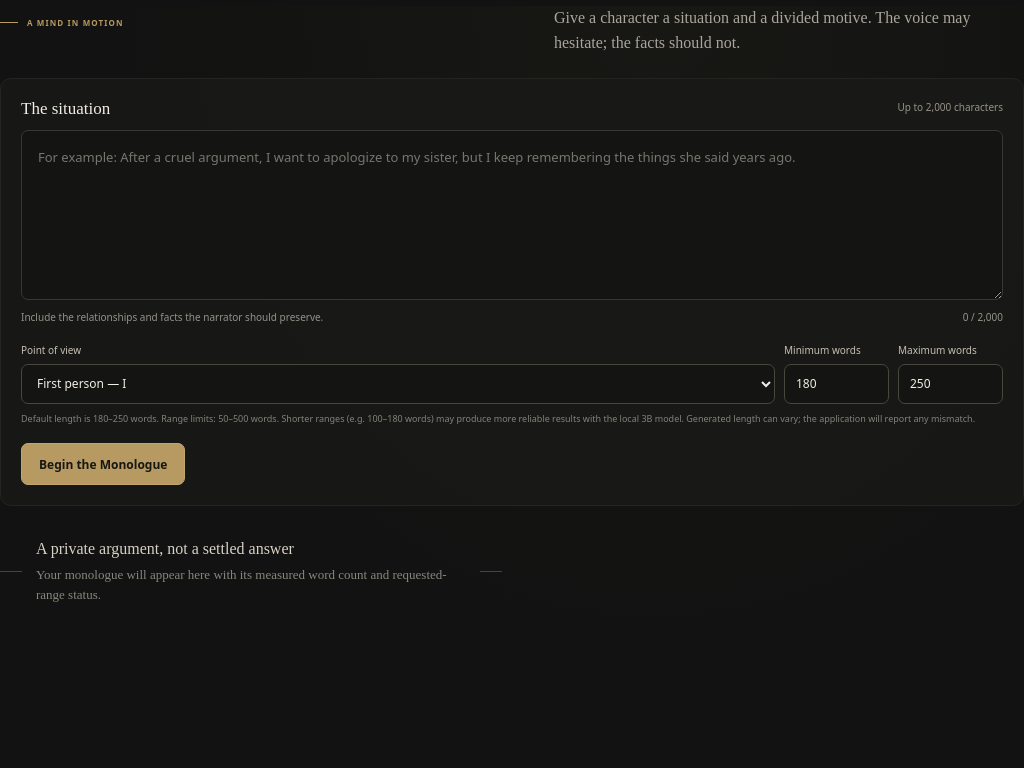
Test: InnerMonologue component › copies generated monologue to clipboard
The width and height of the screenshot is (1024, 768).
Type "Doubt" into the text box labelled "The situation Up to 2,000 characters" at (512, 215), box [21,130,1003,300]
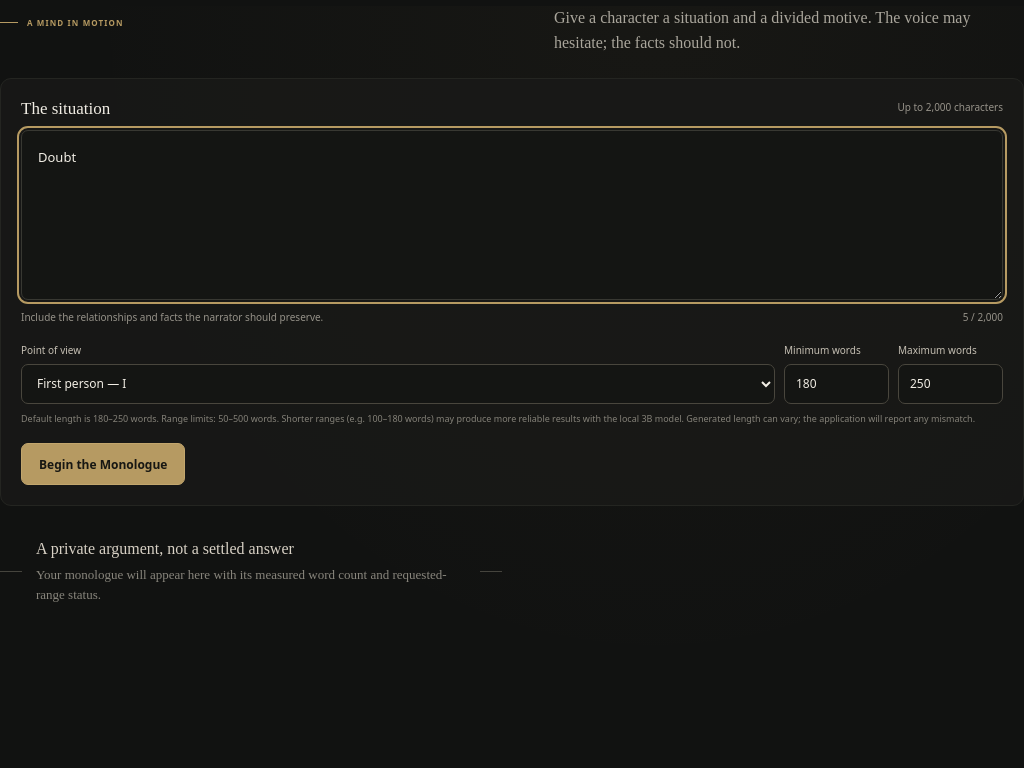
Click the button "Begin the Monologue" at (103, 464), box [21,443,185,485]
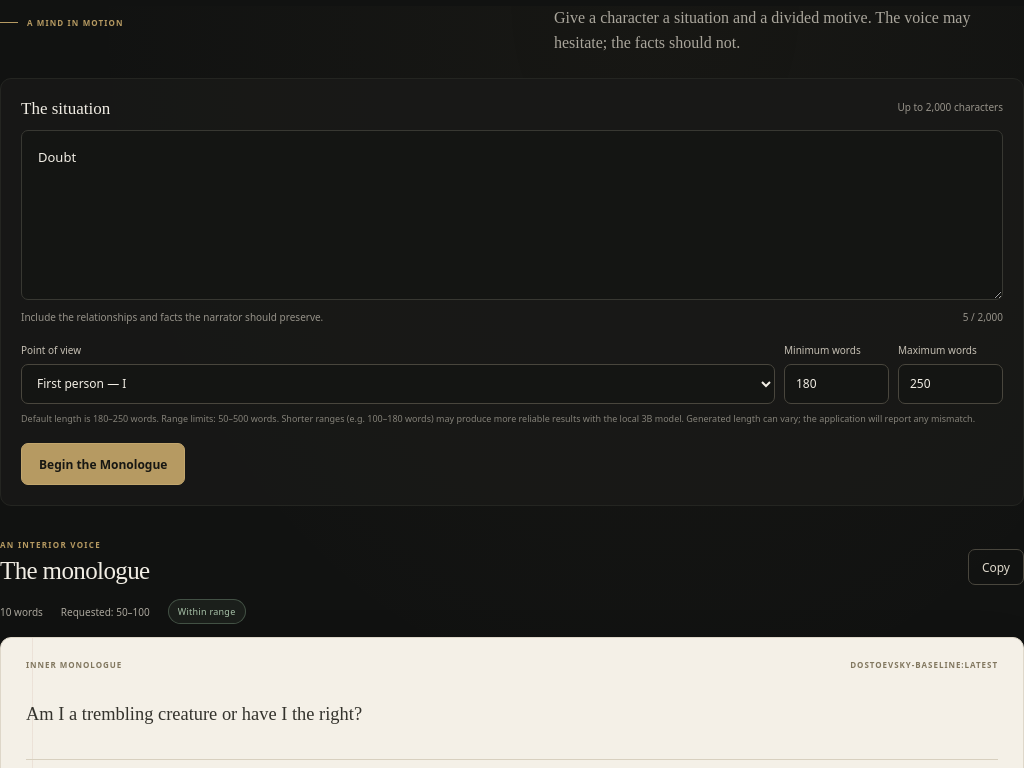
Expected: the button with aria-label "Copy generated monologue" is shown
Click the button with aria-label "Copy generated monologue" at (996, 567), box [968,549,1023,585]
(page scrolled)
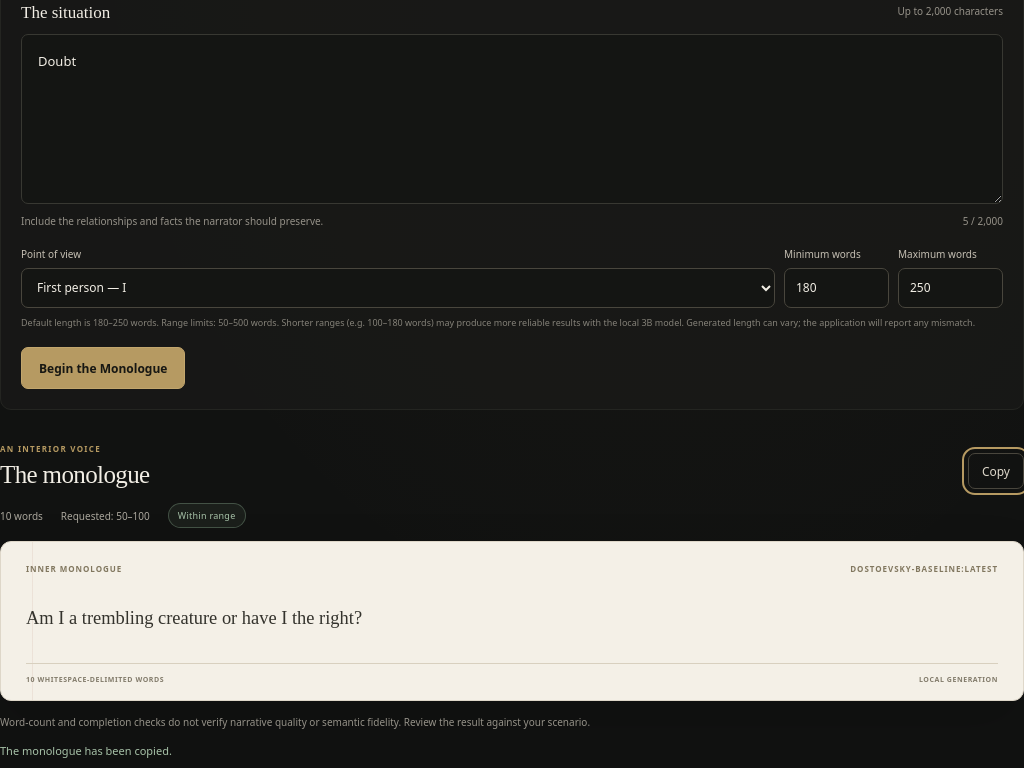
Expected: the text "The monologue has been copied." is shown, [0,743,172,758]
